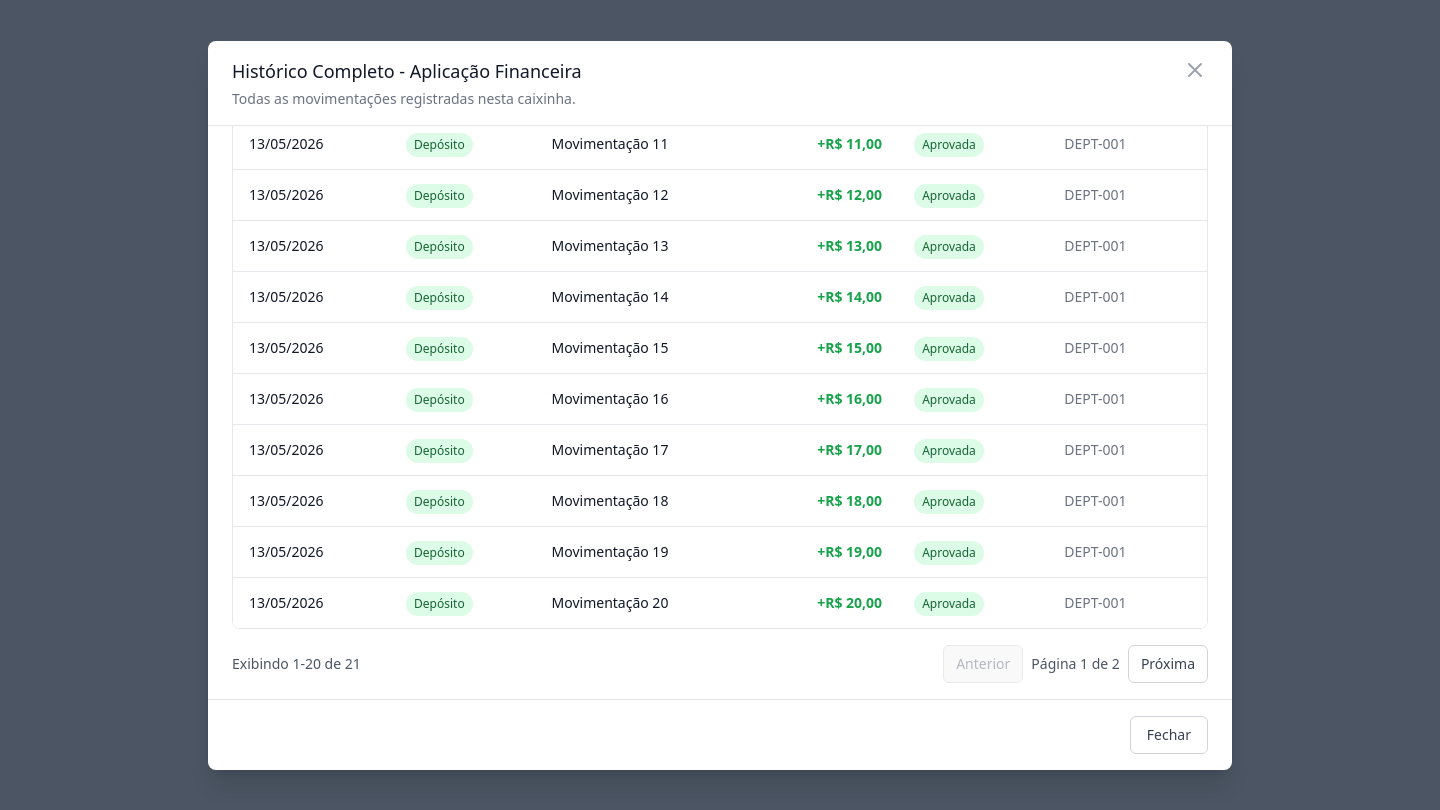
DepartmentHistoryModal › pagina o historico quando ha muitas movimentacoes
The width and height of the screenshot is (1440, 810).
(page scrolled)
Expected: the text "Movimentação 21" is not shown
Expected: the text "Exibindo 1-20 de 21" is shown, [232, 654, 361, 674]
Click the button "Próxima". click: x=1168, y=664
box: [1128, 644, 1208, 682]
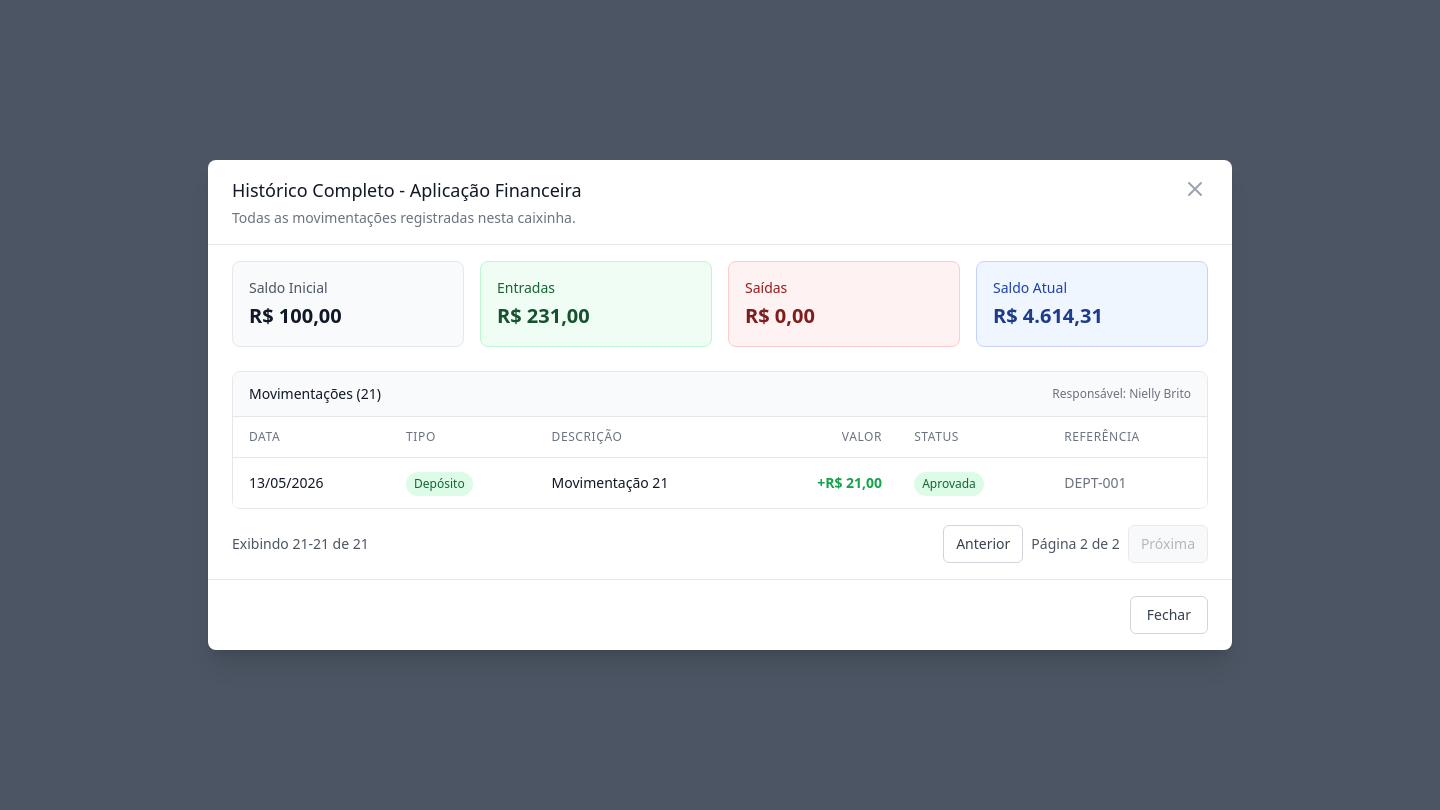
Now the text "Movimentação 21" is shown, box [552, 473, 668, 492]
Now the text "Movimentação 1" is gone
Now the text "Exibindo 21-21 de 21" is shown, box [232, 534, 369, 554]
